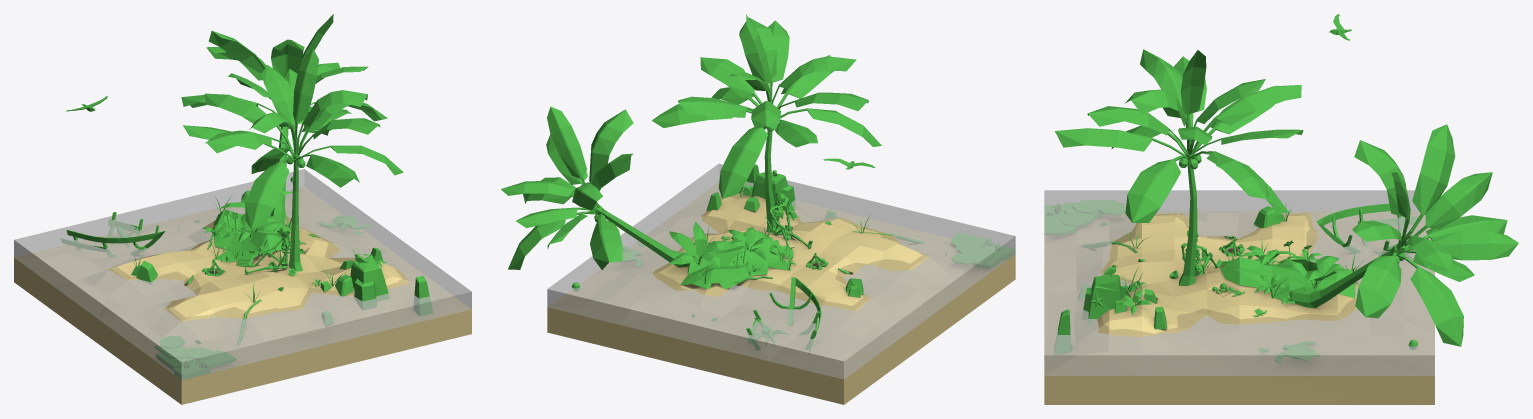
The model's file is Desert-Island.fbx.
The picture shows the model from 3 angles, left to right: view 1: azimuth 30°, elevation 25°; view 2: azimuth 150°, elevation 25°; view 3: azimuth 270°, elevation 25°; orthographic projection. The views are drawn at different scales.
Parts seen in each view (by area): view 1: Island, Water, Island-objects; view 2: Island, Water, Island-objects; view 3: Island, Island-objects, Water.
Boxes of the visible parts, x1,y1,x2,y2 form: Island: (14, 187, 471, 404); Water: (14, 169, 471, 379); Island-objects: (61, 14, 432, 379); Island: (547, 182, 1015, 404); Water: (547, 163, 1015, 379); Island-objects: (501, 14, 1014, 353); Island: (1044, 211, 1434, 404); Island-objects: (1044, 14, 1518, 362); Water: (1044, 190, 1434, 375).
Size of the model in its own units: 593 by 427 by 607.
